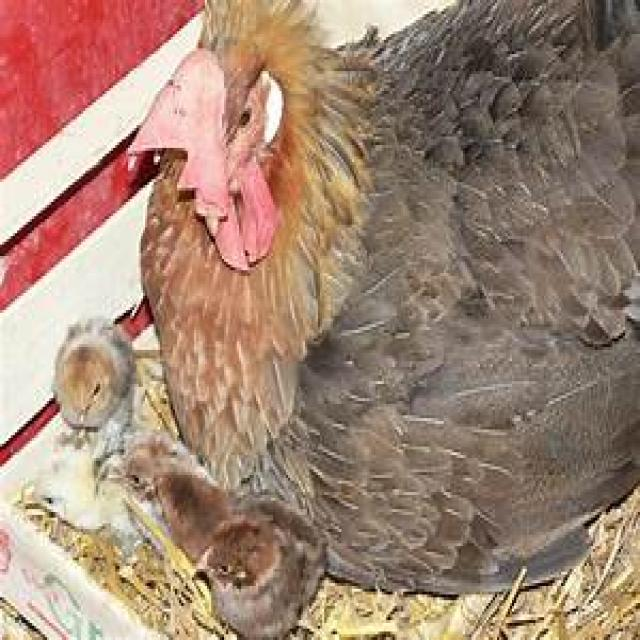animal: (124, 0, 638, 600)
